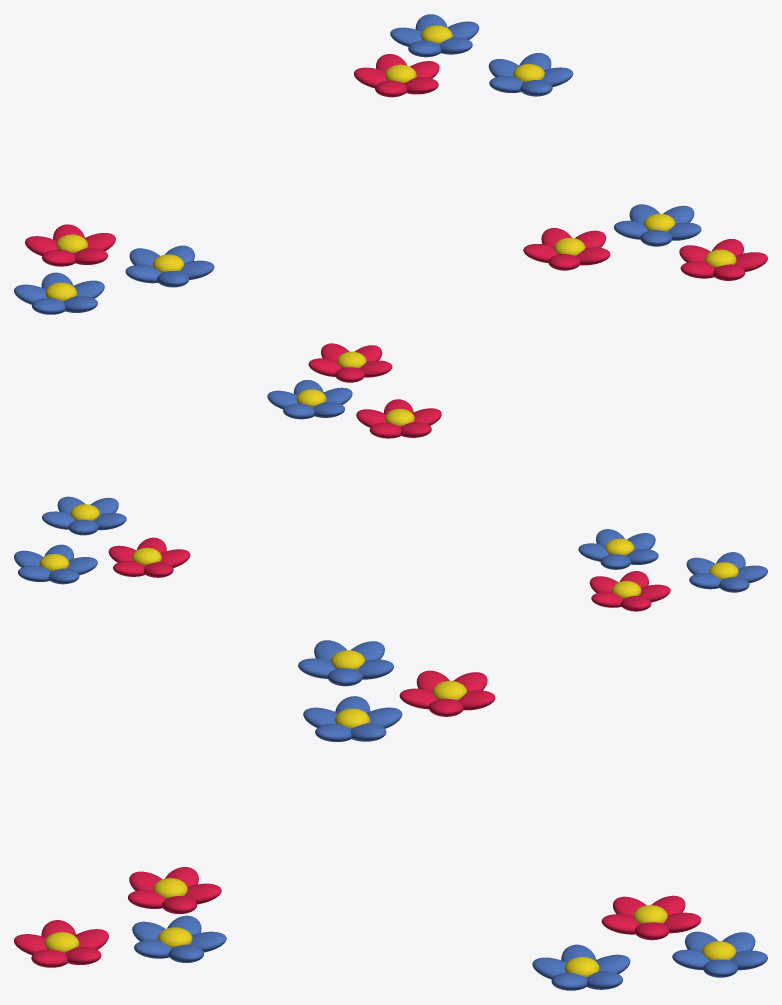
The model's file is flowers9.glb.
3 views of the same model, one above another, from view 1: azimuth 30°, elevation 25°; view 2: azimuth 150°, elevation 25°; view 3: azimuth 270°, elevation 25° (orthographic). The views are drawn at different scales.
Visible parts, largest first — view 1: Sphere.022; view 2: Sphere.022; view 3: Sphere.022.
Part boxes in pixels (left/top/right/bottom): Sphere.022: left=14, top=14, right=767, bottom=314; Sphere.022: left=14, top=343, right=767, bottom=611; Sphere.022: left=14, top=640, right=767, bottom=990.
Size of the model in its own units: 13.95 by 0.4115 by 12.9.
